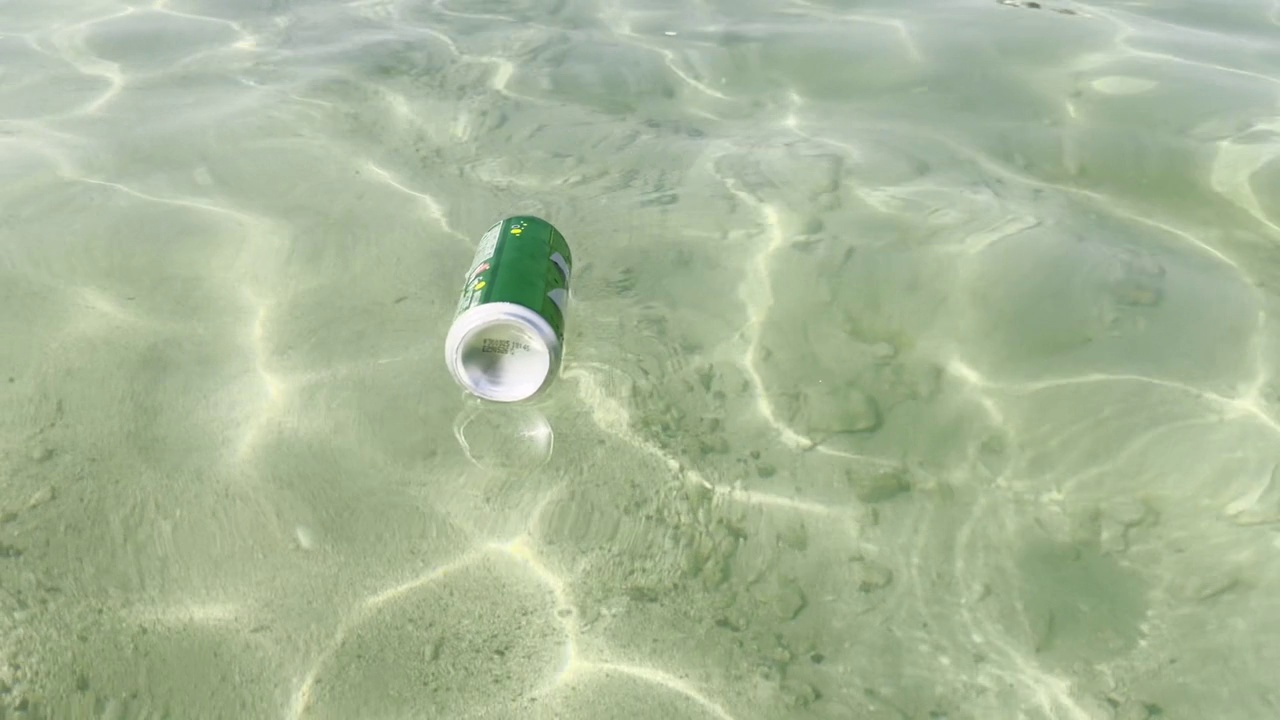debris: (430, 205, 579, 412)
